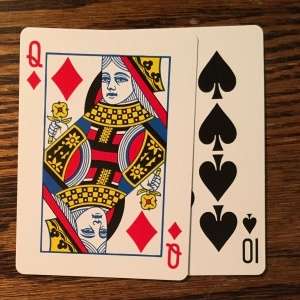card: (15, 26, 189, 280), (188, 25, 267, 275)
